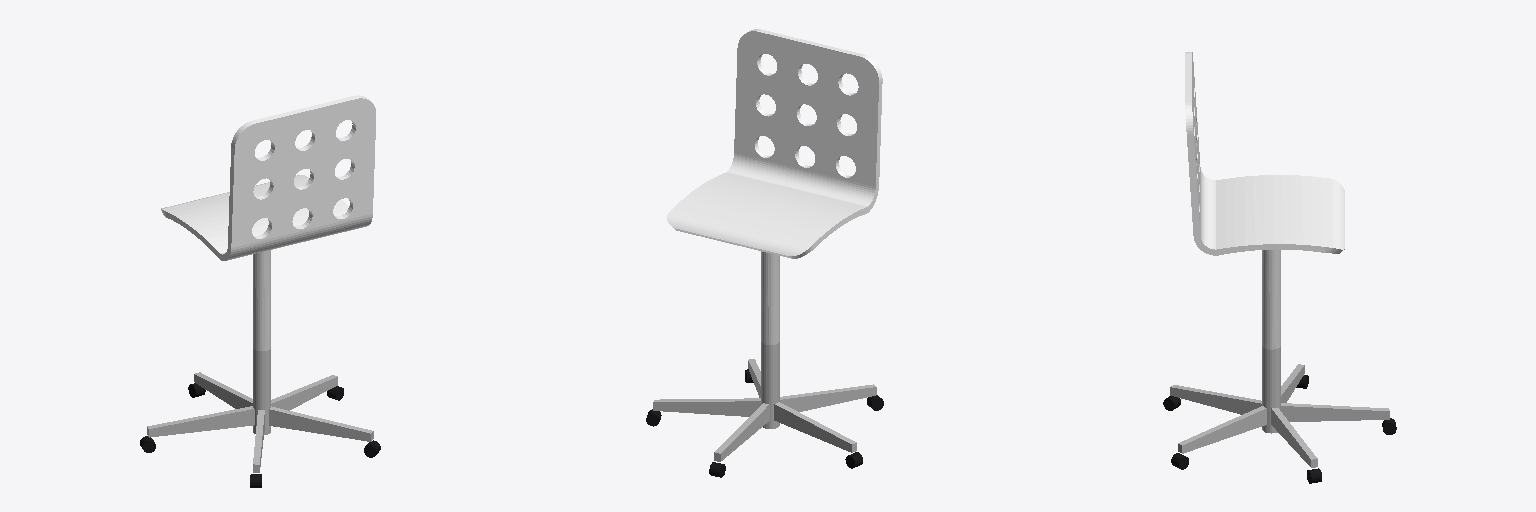
The picture shows the model from 3 angles: view 1: azimuth 30°, elevation 25°; view 2: azimuth 150°, elevation 25°; view 3: azimuth 270°, elevation 25°; orthographic projection.
Parts seen in each view (by area): view 1: Mesh1 Group2 Group1 Model, Mesh12 Group3 ske3F1 Group1 Model, Mesh7 Group6 Group3 ske3F1 Group1 Model, Mesh5 Group5 Group3 ske3F1 Group1 Model, Mesh11 Group8 Group3 ske3F1 Group1 Model, Mesh3 Group4 Group3 ske3F1 Group1 Model; view 2: Mesh1 Group2 Group1 Model, Mesh12 Group3 ske3F1 Group1 Model, Mesh11 Group8 Group3 ske3F1 Group1 Model, Mesh7 Group6 Group3 ske3F1 Group1 Model, Mesh9 Group7 Group3 ske3F1 Group1 Model, Mesh3 Group4 Group3 ske3F1 Group1 Model; view 3: Mesh1 Group2 Group1 Model, Mesh12 Group3 ske3F1 Group1 Model, Mesh3 Group4 Group3 ske3F1 Group1 Model, Mesh5 Group5 Group3 ske3F1 Group1 Model, Mesh9 Group7 Group3 ske3F1 Group1 Model, Mesh11 Group8 Group3 ske3F1 Group1 Model.
Boxes of the visible parts, x1=… form: Mesh1 Group2 Group1 Model: x1=161, y1=95, x2=375, y2=260; Mesh12 Group3 ske3F1 Group1 Model: x1=253, y1=250, x2=270, y2=434; Mesh7 Group6 Group3 ske3F1 Group1 Model: x1=147, y1=406, x2=254, y2=437; Mesh5 Group5 Group3 ske3F1 Group1 Model: x1=269, y1=406, x2=373, y2=441; Mesh11 Group8 Group3 ske3F1 Group1 Model: x1=271, y1=375, x2=337, y2=410; Mesh3 Group4 Group3 ske3F1 Group1 Model: x1=194, y1=372, x2=252, y2=408; Mesh1 Group2 Group1 Model: x1=667, y1=29, x2=882, y2=258; Mesh12 Group3 ske3F1 Group1 Model: x1=761, y1=251, x2=779, y2=428; Mesh11 Group8 Group3 ske3F1 Group1 Model: x1=653, y1=398, x2=761, y2=416; Mesh7 Group6 Group3 ske3F1 Group1 Model: x1=774, y1=402, x2=856, y2=452; Mesh9 Group7 Group3 ske3F1 Group1 Model: x1=780, y1=384, x2=876, y2=411; Mesh3 Group4 Group3 ske3F1 Group1 Model: x1=714, y1=403, x2=769, y2=461; Mesh1 Group2 Group1 Model: x1=1185, y1=52, x2=1344, y2=255; Mesh12 Group3 ske3F1 Group1 Model: x1=1262, y1=250, x2=1280, y2=433; Mesh3 Group4 Group3 ske3F1 Group1 Model: x1=1280, y1=403, x2=1389, y2=421; Mesh5 Group5 Group3 ske3F1 Group1 Model: x1=1178, y1=406, x2=1266, y2=453; Mesh9 Group7 Group3 ske3F1 Group1 Model: x1=1170, y1=385, x2=1261, y2=414; Mesh11 Group8 Group3 ske3F1 Group1 Model: x1=1271, y1=408, x2=1317, y2=467.
Bounding box in the file's own units: 0.5503 × 0.9028 × 0.5332.